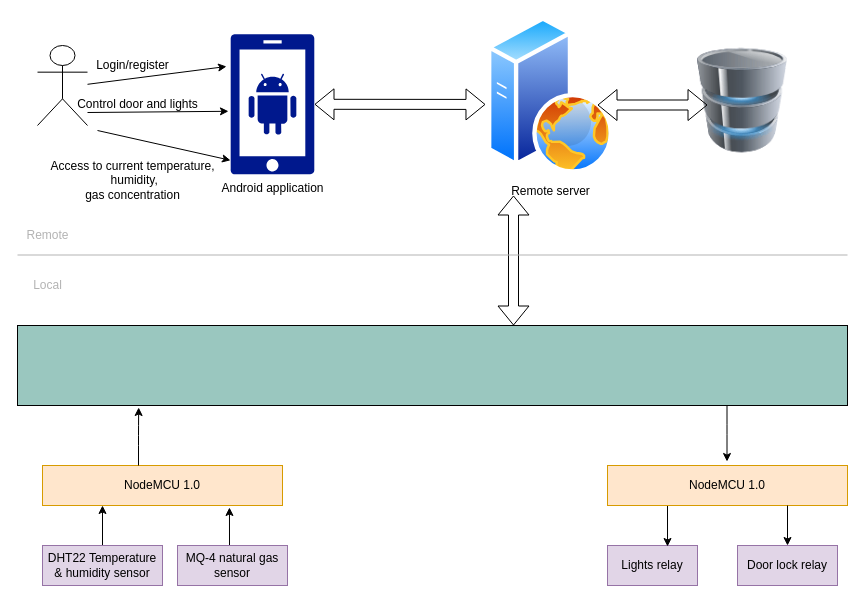
The diagram is 866 pixels wide and 604 high, and some of its shapes have lost their labels. Here are the shapes that lost their labels. From the top down, the centre of each, then its label:
At [62,85]: "User".
At [742,100]: "MySQL database".
At [432,365]: "gateway(raspberry pi)".
